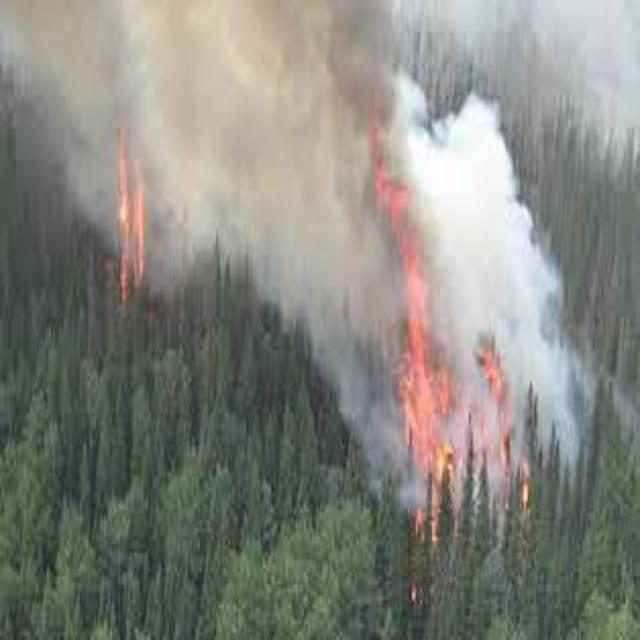Fire: (355, 114, 477, 496), (476, 323, 531, 496), (104, 122, 148, 308)
Smoke: (152, 0, 352, 426), (0, 0, 152, 121), (478, 98, 558, 314), (539, 320, 640, 487)
